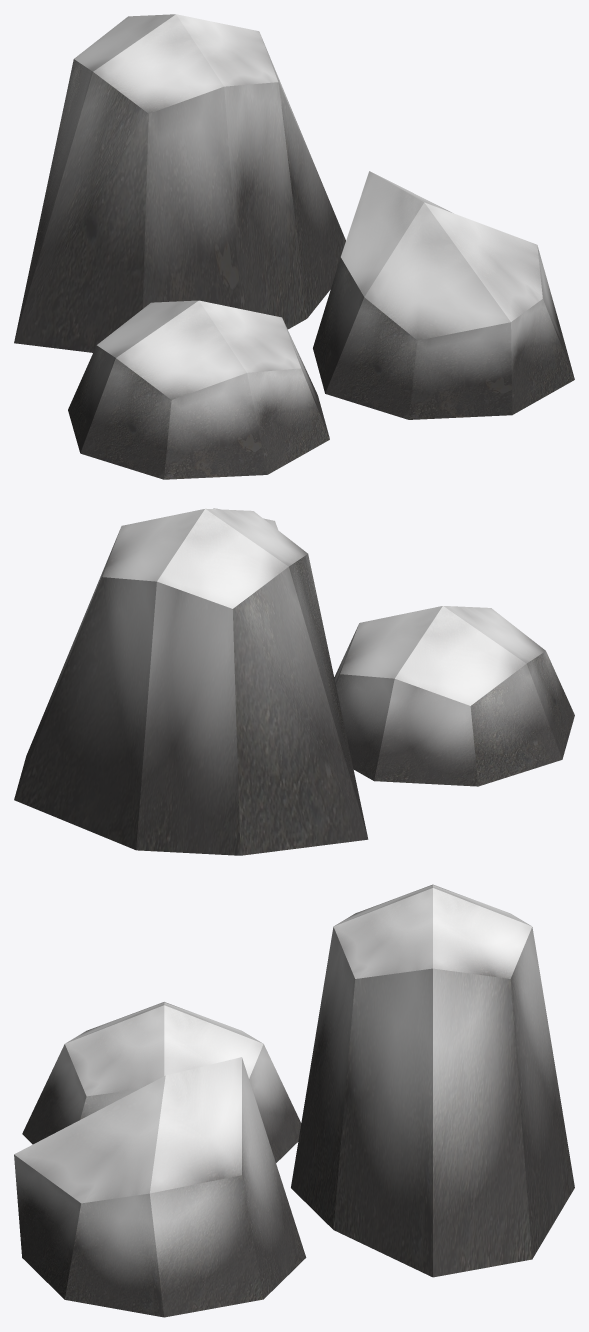
Rendered from rocks.glb.
3 views of the same model, one above another, from view 1: azimuth 30°, elevation 25°; view 2: azimuth 150°, elevation 25°; view 3: azimuth 270°, elevation 25° (orthographic). The views are drawn at different scales.
Parts seen in each view (by area): view 1: Rocks; view 2: Rocks; view 3: Rocks.
Part boxes in pixels (x1,y1,x2,y2): Rocks: (14,14,574,479); Rocks: (14,508,574,855); Rocks: (14,884,574,1317).
Bounding box in the file's own units: 3.37 × 1.98 × 3.27.
Materials: 1 (1 with a texture image).
